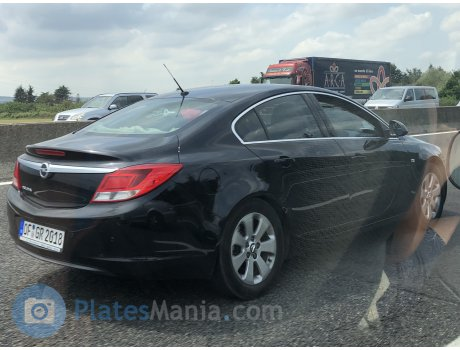License Plates: (30, 223, 73, 247)
